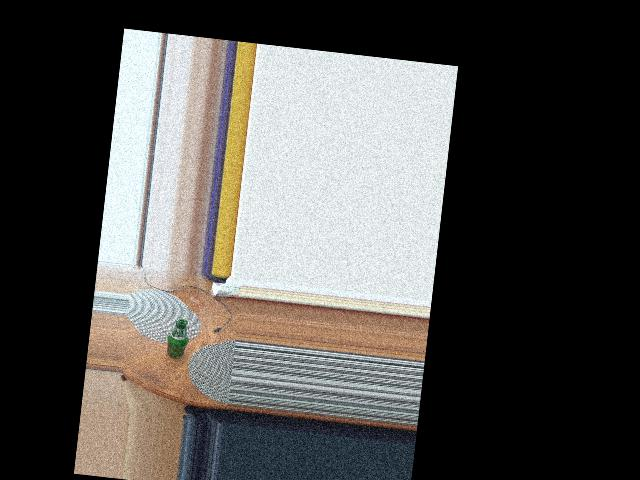beer: (165, 317, 190, 359)
